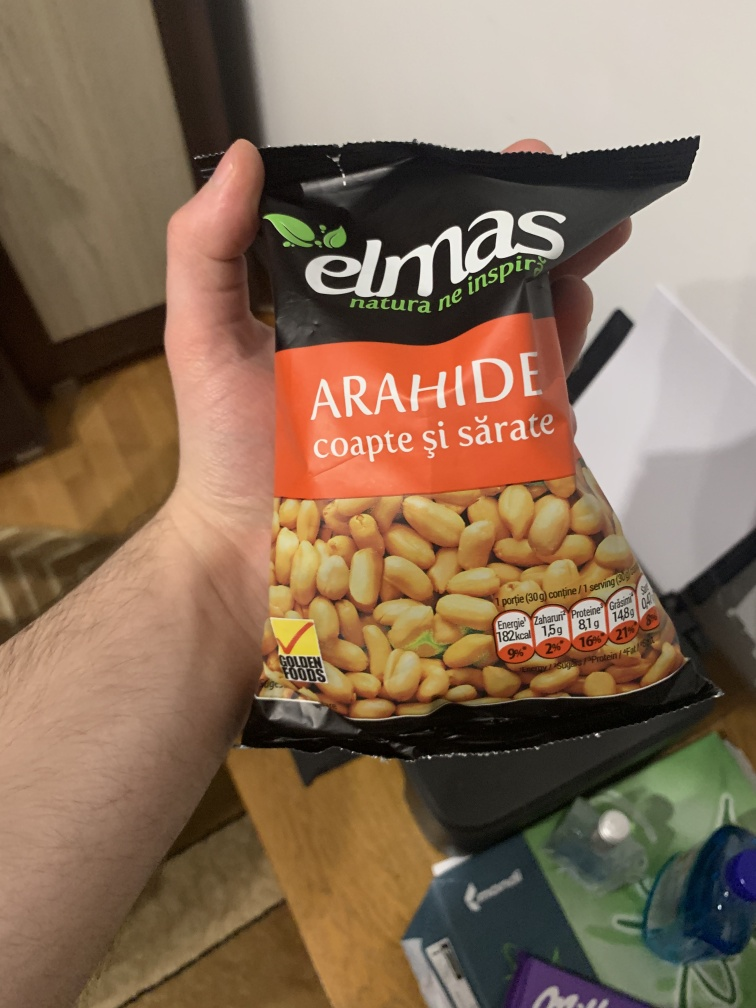peanuts: (187, 132, 730, 768)
